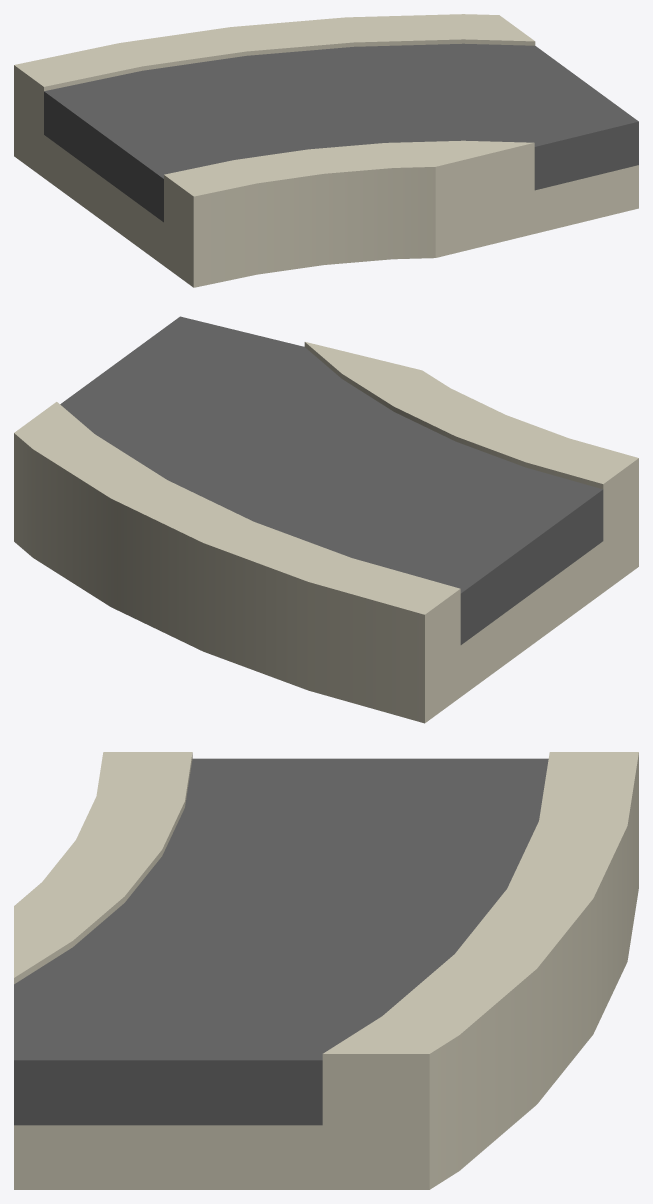
File: tile197.fbx
3 views of the same model, one above another, from view 1: azimuth 30°, elevation 25°; view 2: azimuth 150°, elevation 25°; view 3: azimuth 270°, elevation 25° (orthographic). The views are drawn at different scales.
Parts seen in each view (by area): view 1: tile197; view 2: tile197; view 3: tile197.
Boxes of the visible parts, x1,y1,x2,y2 form: tile197: (14, 14, 638, 287); tile197: (14, 316, 638, 723); tile197: (14, 752, 638, 1189).
Bounding box in the file's own units: 10 × 2.1 × 8.75.
